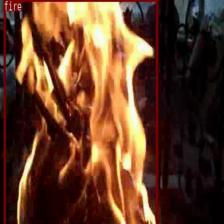fire: (3, 0, 157, 224)
